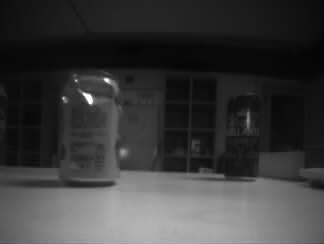Tin can: (58, 69, 121, 184), (225, 92, 259, 181)
